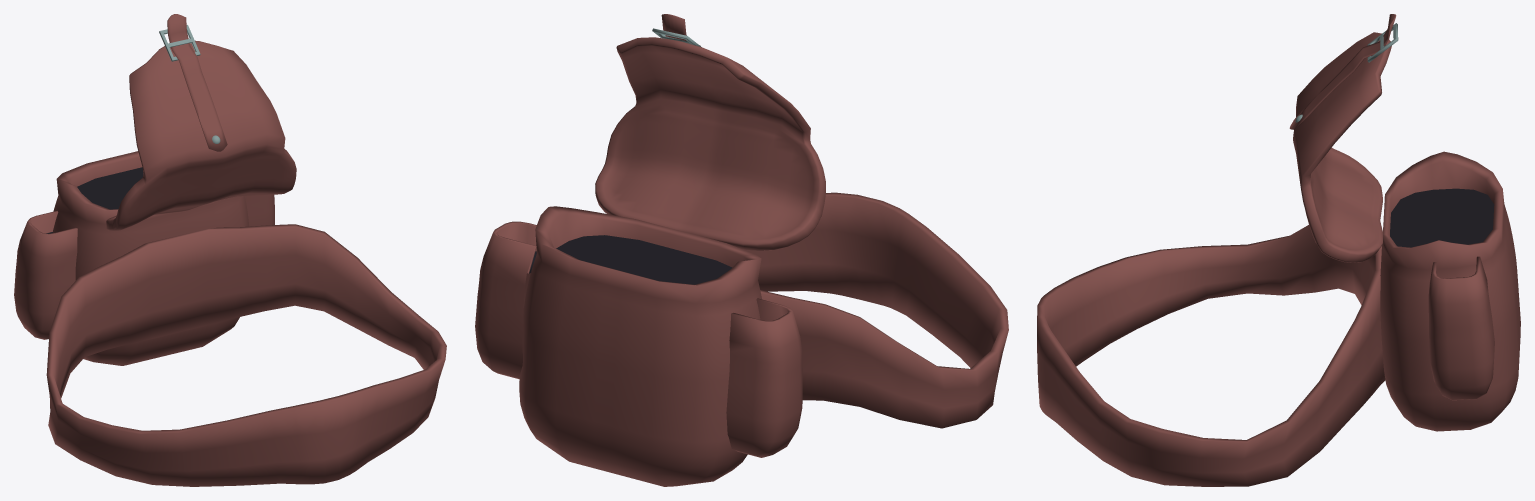
The model's file is Bag.fbx.
The picture shows the model from 3 angles, left to right: view 1: azimuth 30°, elevation 25°; view 2: azimuth 150°, elevation 25°; view 3: azimuth 270°, elevation 25°; orthographic projection. The views are drawn at different scales.
Visible parts, largest first — view 1: Plane.002; view 2: Plane.002; view 3: Plane.002.
Part boxes in pixels (x1,y1,x2,y2): Plane.002: [14, 14, 446, 486]; Plane.002: [475, 14, 1008, 486]; Plane.002: [1037, 14, 1520, 486].
Size of the model in its own units: 183 by 169 by 189.
1 material, 1 textured.
